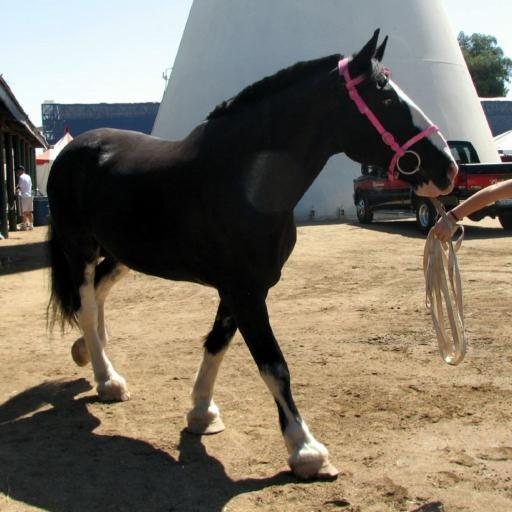horse: (43, 28, 462, 483)
